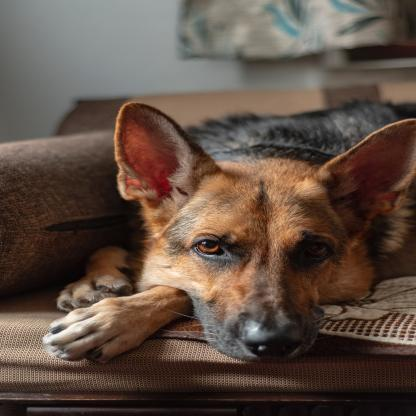dog: (45, 106, 416, 378)
